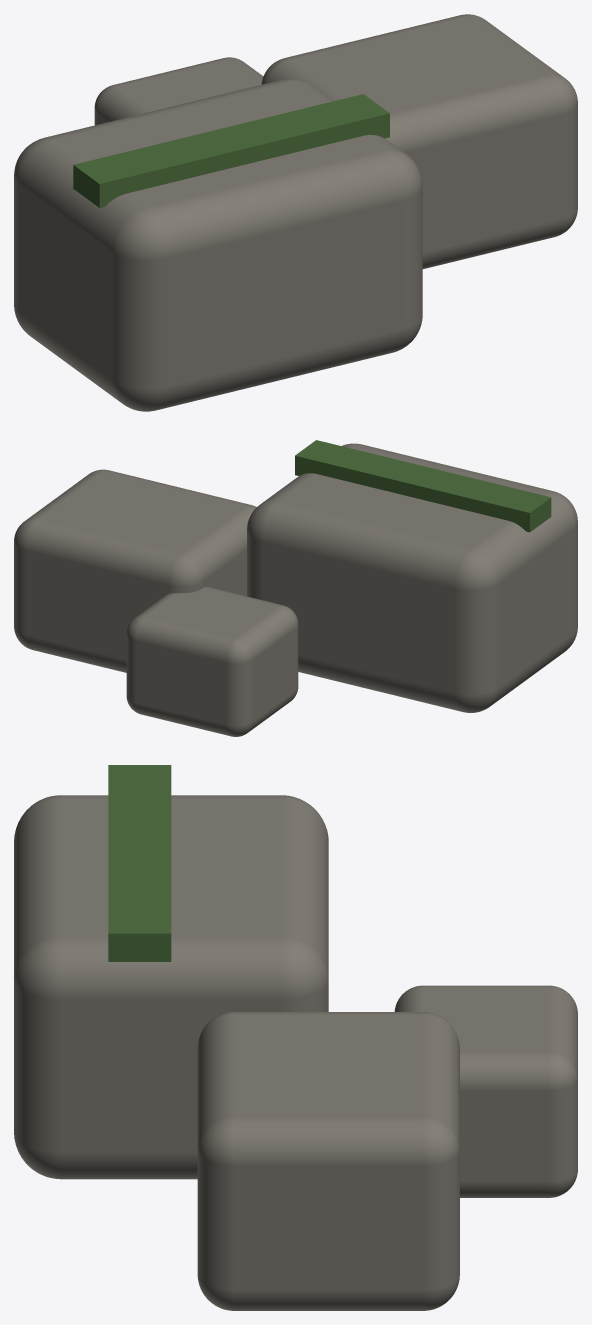
Rendered from f21-boulder-cluster.glb.
3 renders of one model, top to bottom at view 1: azimuth 30°, elevation 25°; view 2: azimuth 150°, elevation 25°; view 3: azimuth 270°, elevation 25°, orthographic. The views are drawn at different scales.
Parts seen in each view (by area): view 1: part0, part1; view 2: part0, part1; view 3: part0, part1.
Part boxes in pixels (<box>): part0: <box>14,14,577,411</box>; part1: <box>73,94,389,207</box>; part0: <box>14,443,577,736</box>; part1: <box>295,440,551,532</box>; part0: <box>14,795,577,1310</box>; part1: <box>108,765,171,961</box>.
Size of the model in its own units: 1400 by 540 by 1075.
